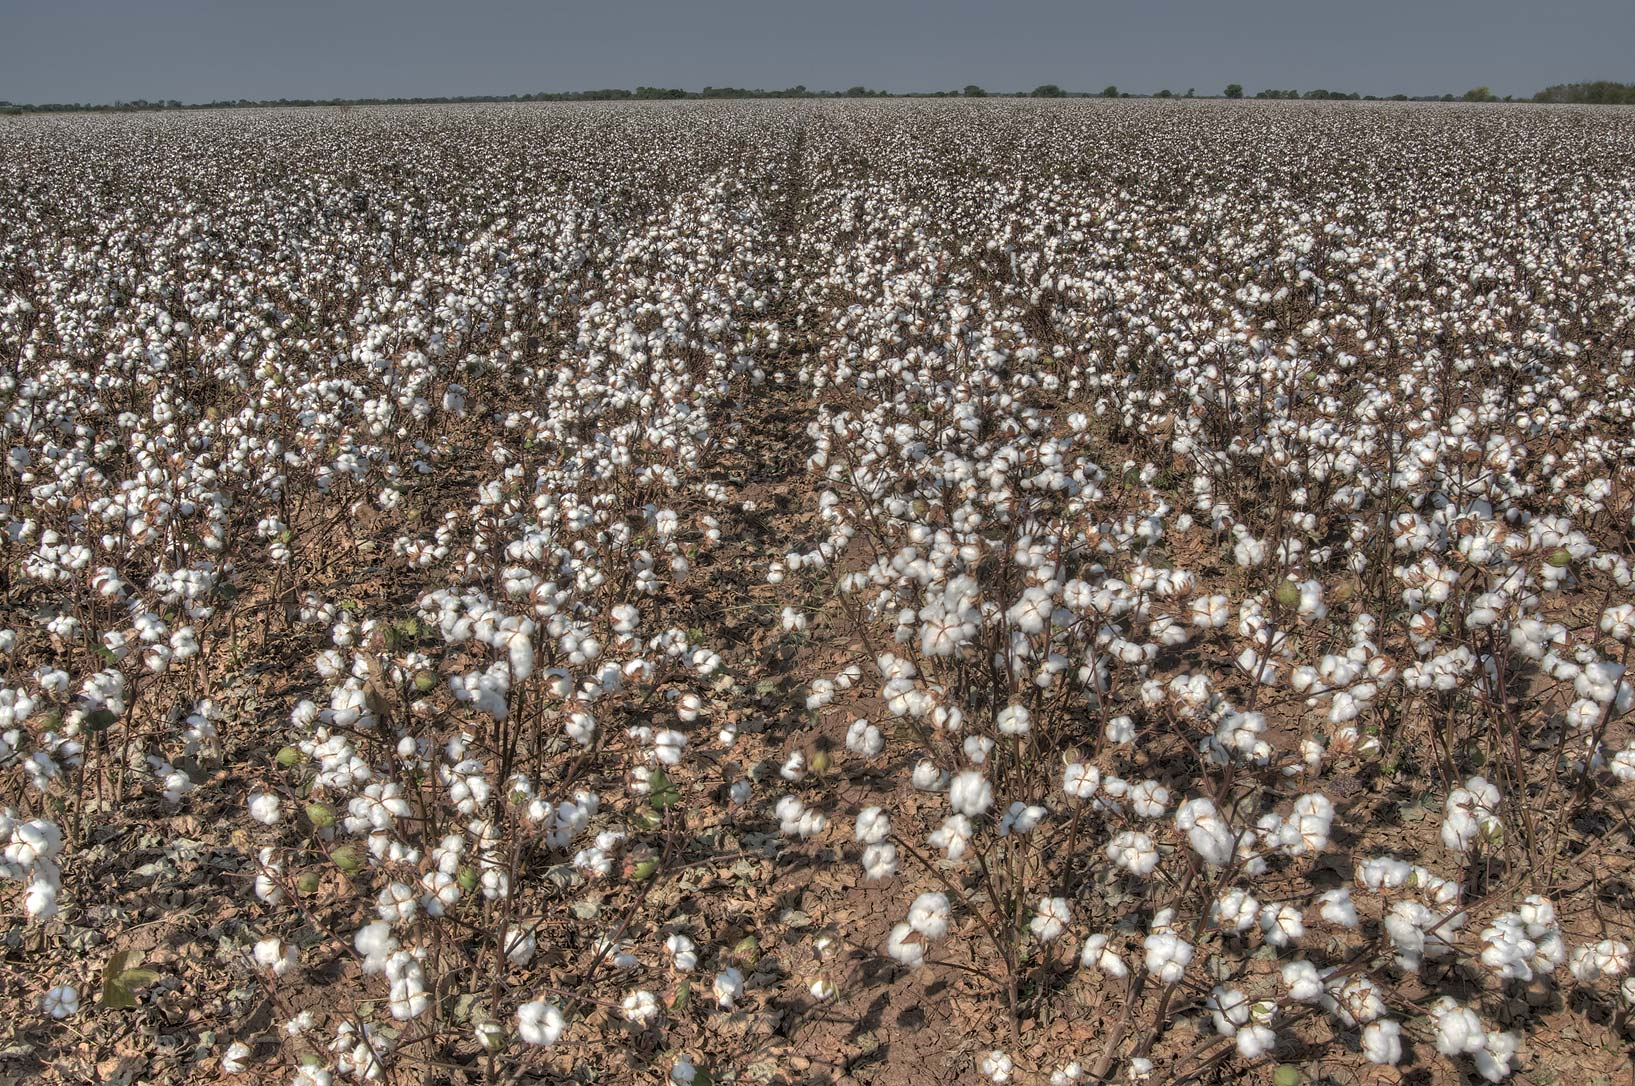cotton: (50, 205, 1585, 1078)
